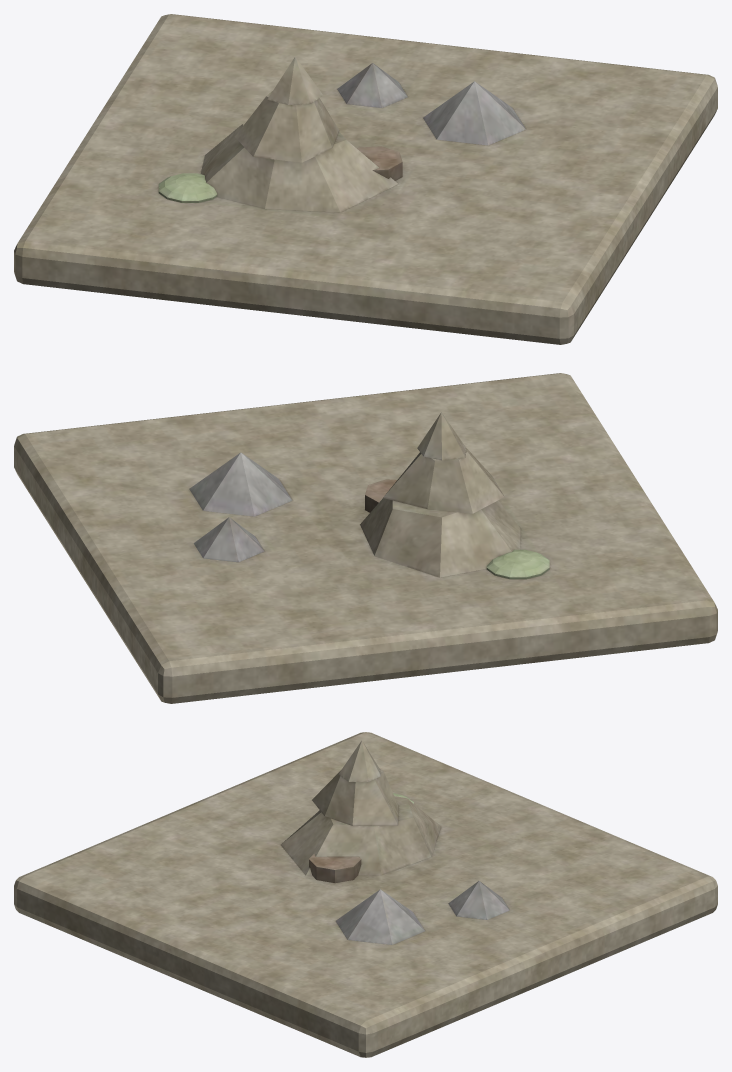
File: gryk_hills.glb
The picture shows the model from 3 angles, top to bottom: view 1: azimuth 30°, elevation 25°; view 2: azimuth 150°, elevation 25°; view 3: azimuth 270°, elevation 25°; orthographic projection. The views are drawn at different scales.
Parts seen in each view (by area): view 1: dilek; view 2: dilek; view 3: dilek.
Part boxes in pixels (box(x1,y1,x2,y2)): dilek: box(14, 14, 717, 344); dilek: box(14, 373, 717, 703); dilek: box(14, 732, 717, 1057).
Size of the model in its own units: 2.42 by 0.54 by 2.42.
1 material, 1 textured.
